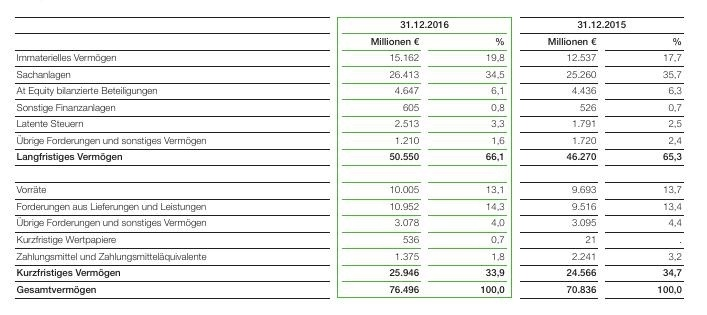table: (0, 0, 707, 315)
